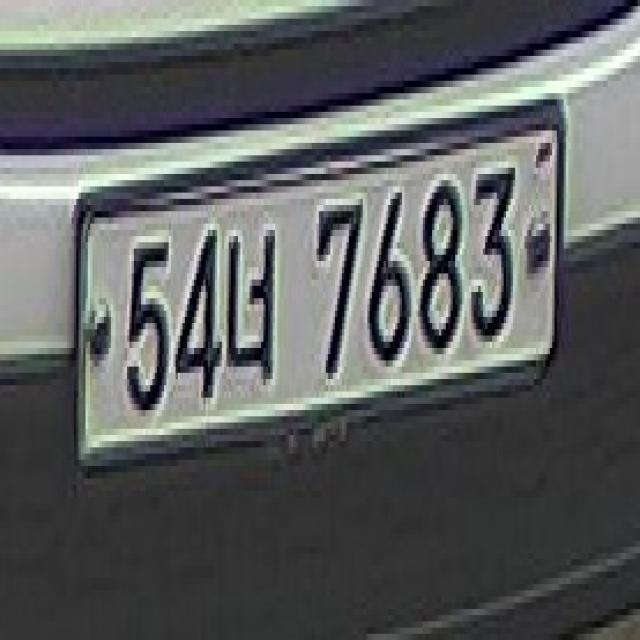3: (465, 149, 529, 361)
4: (171, 186, 224, 429)
5: (113, 205, 176, 435)
6: (365, 137, 418, 404)
7: (307, 162, 363, 410)
8: (416, 143, 469, 373)
license_plate: (71, 74, 568, 516)
neo: (222, 205, 289, 398)
